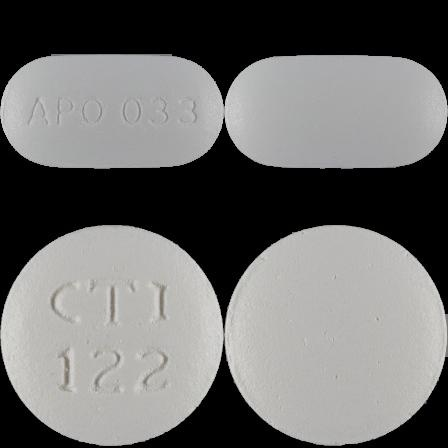60429-703: (0, 0, 224, 224)
